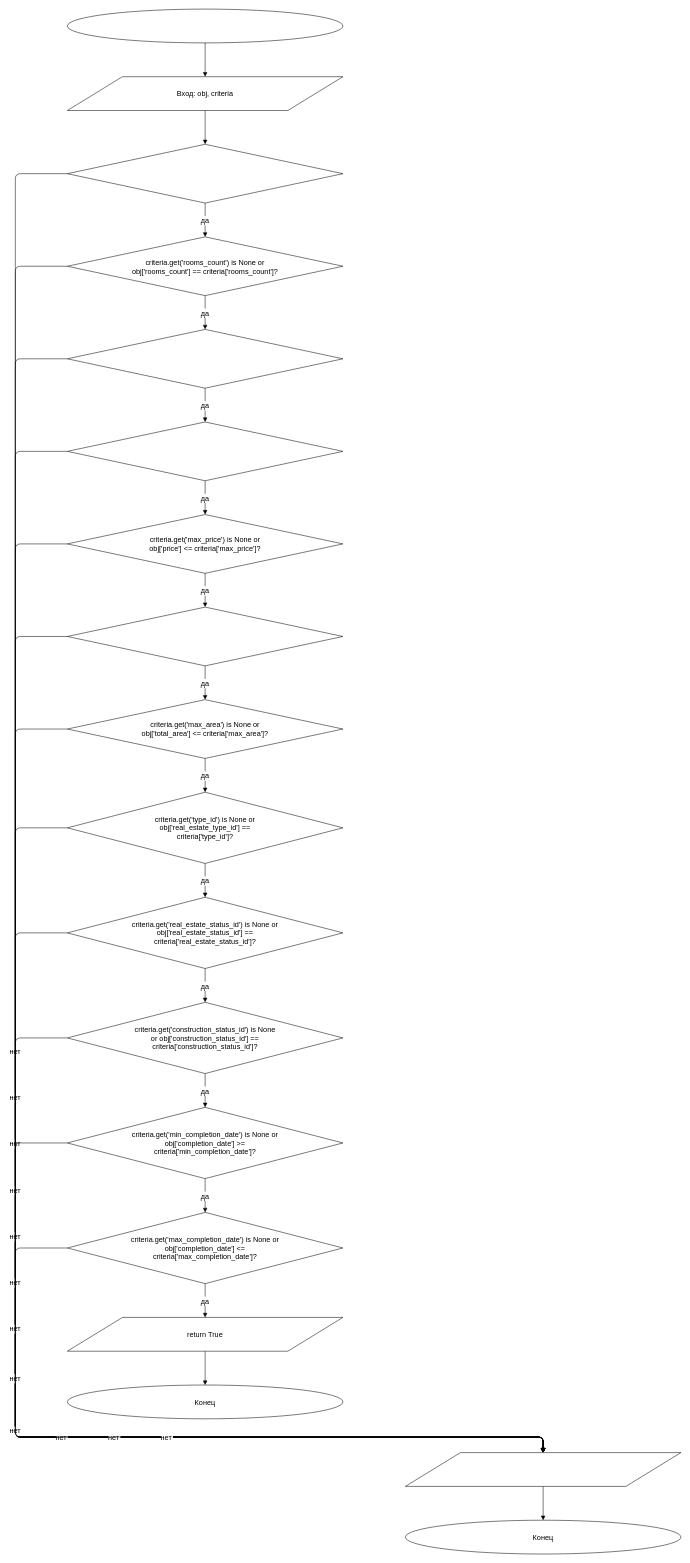
Image size: 690x1563. Some labels were removed from this diagram. Here are the shapes that lost their labels. From the top down, the centre of each, then its label:
point 205,26: Начало: matches_filters
point 205,173: criteria.get('floor') is None or obj['floor'] == criteria['floor']?
point 205,358: criteria.get('city') is None or obj['city'] == criteria['city']?
point 205,451: criteria.get('min_price') is None or obj['price'] >= criteria['min_price']?
point 205,636: criteria.get('min_area') is None or obj['total_area'] >= criteria['min_area']?
point 543,1469: return False
